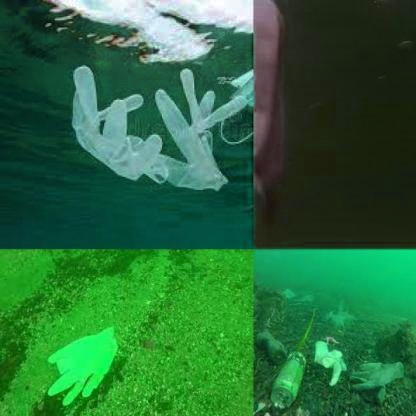Mask: (253, 0, 292, 248)
glove: (71, 65, 172, 197), (148, 66, 245, 198), (48, 326, 118, 404), (350, 354, 406, 406), (311, 336, 351, 391), (321, 294, 360, 338)
